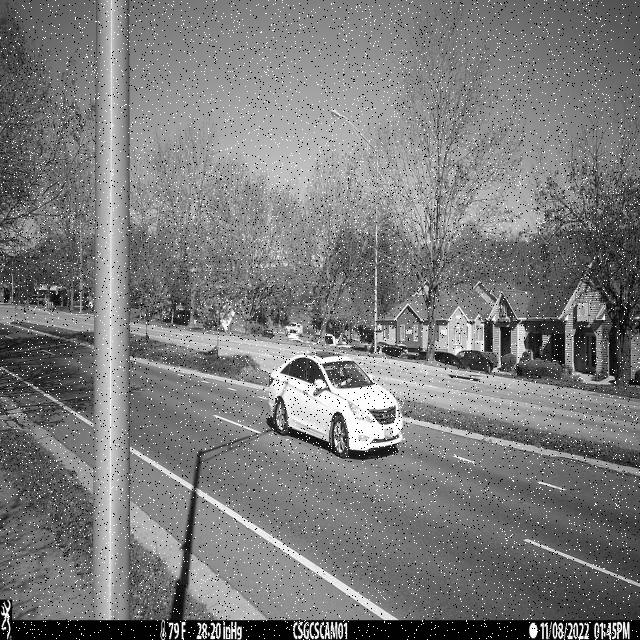Sedan: (268, 351, 407, 458)
